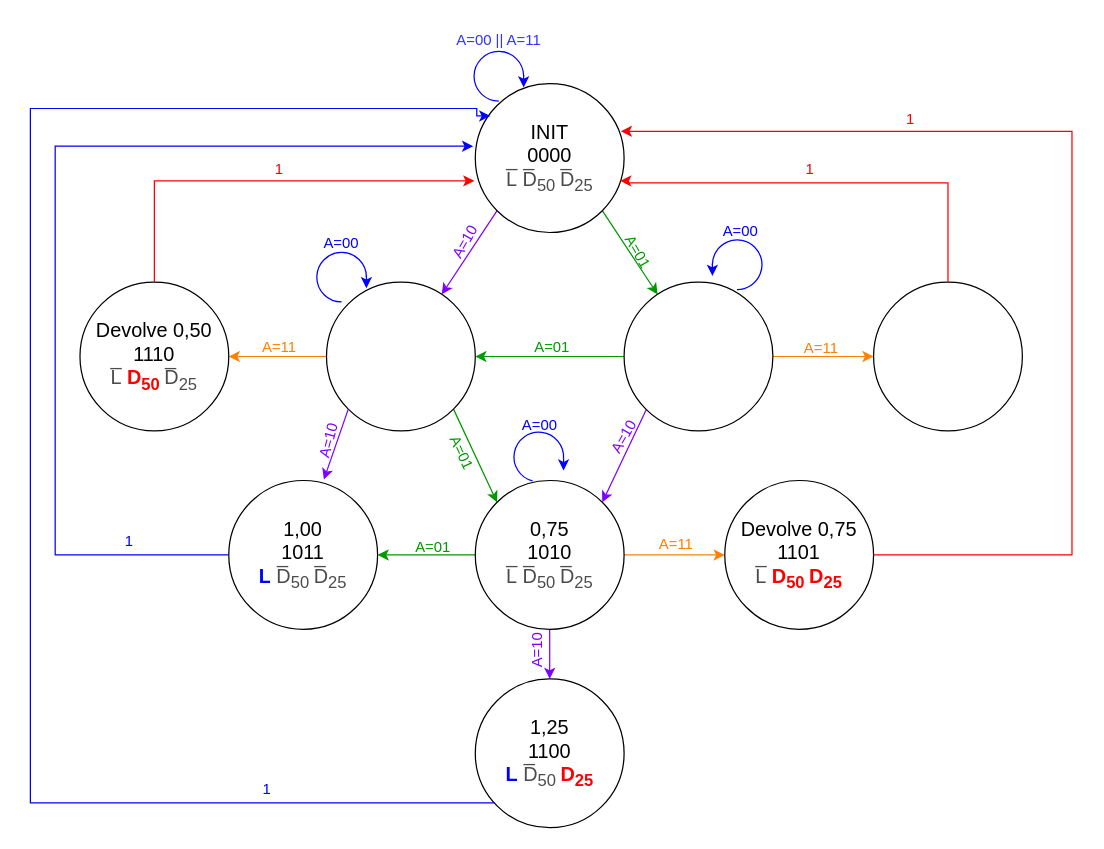
The diagram is 1104 pixels wide and 849 high, and some of its shapes have lost their labels. The box of each missing label's shape, as (x1, y1, x2, y2) in pixels:
0,25 1000 L̅ D̅ 50 D̅ 25: (623, 281, 773, 431)
0,50 1001 L̅ D̅ 50 D̅ 25: (325, 281, 475, 431)
Devolve 0,25 1111 L̅ D̅ 50 D 25: (872, 281, 1022, 431)
